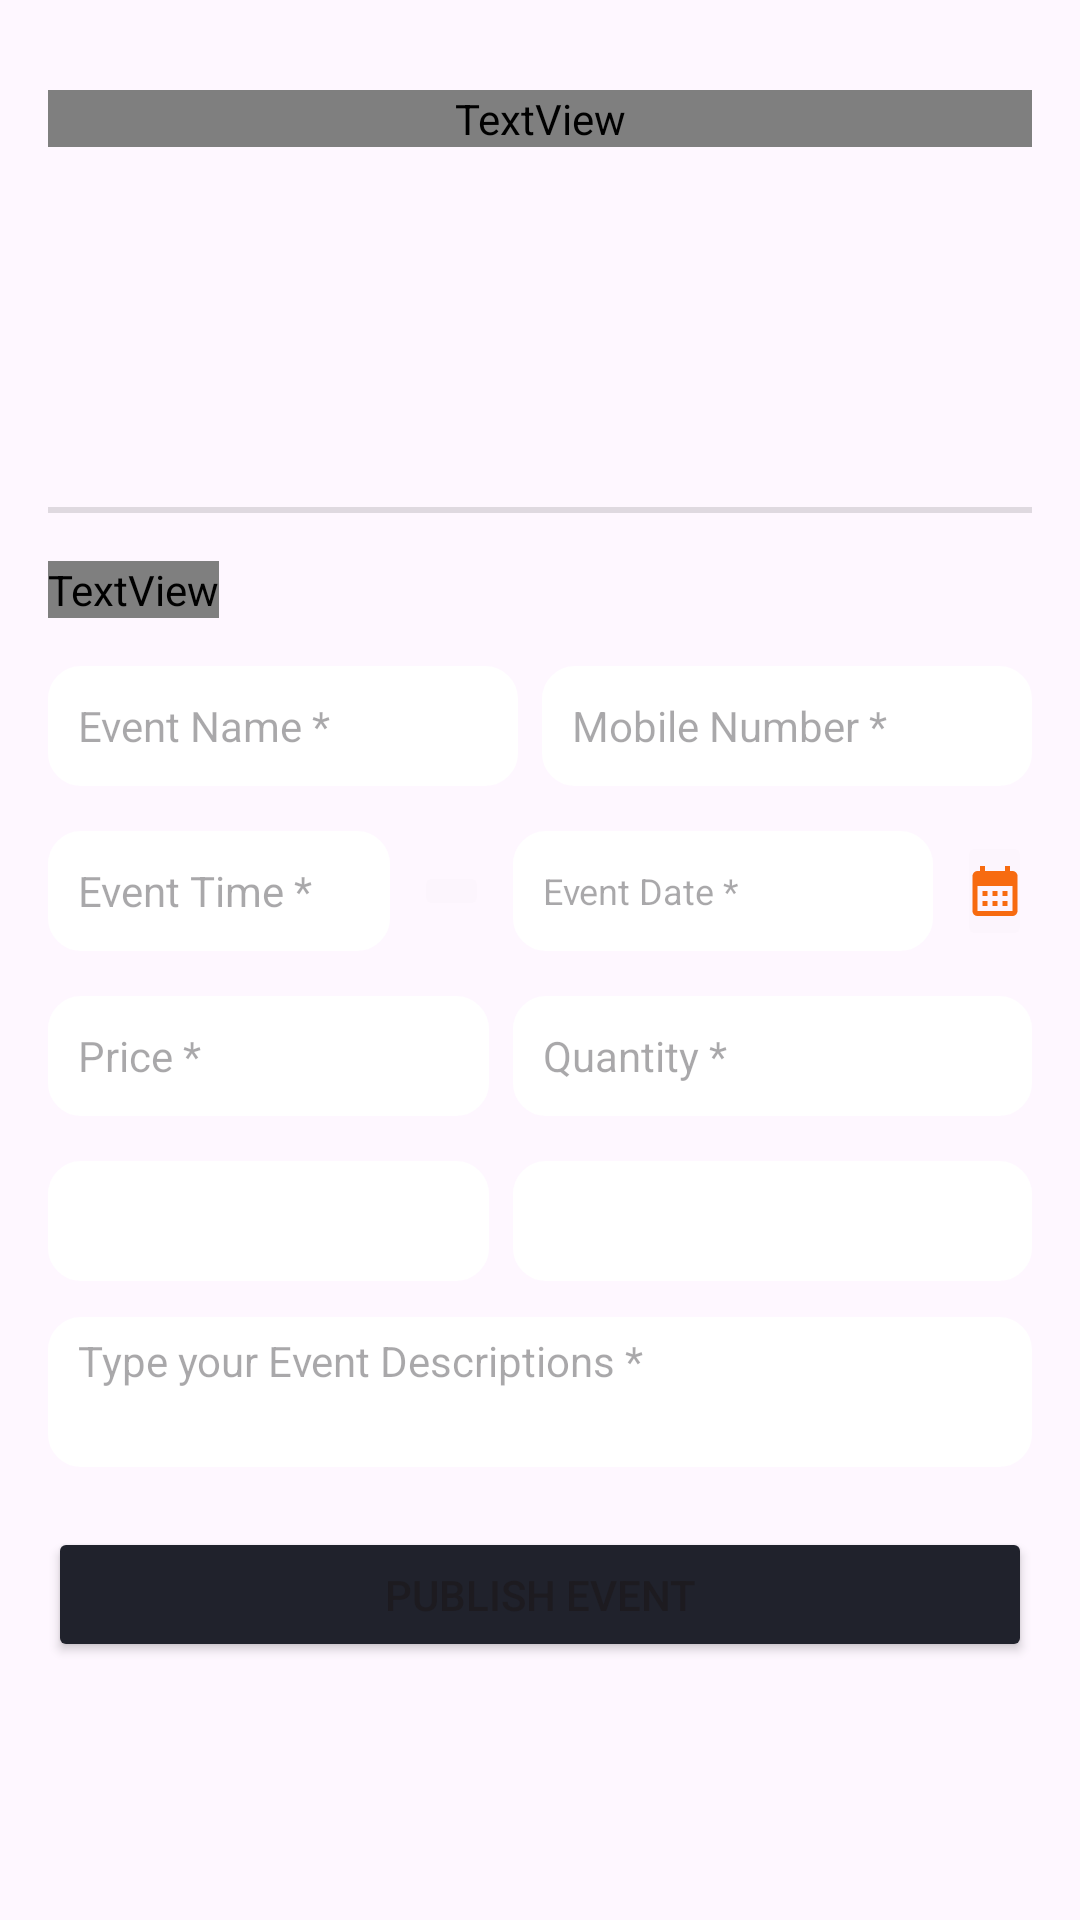

Where icons sit on this 1080 × 1920 app screen, as box=[x1, y1, x2, y2]:
calendar: box=[972, 866, 1018, 916]
